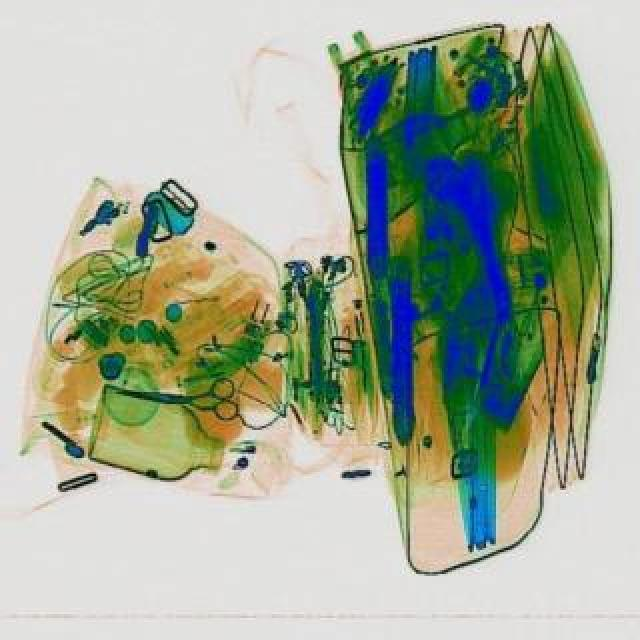pliers: (112, 374, 240, 422)
